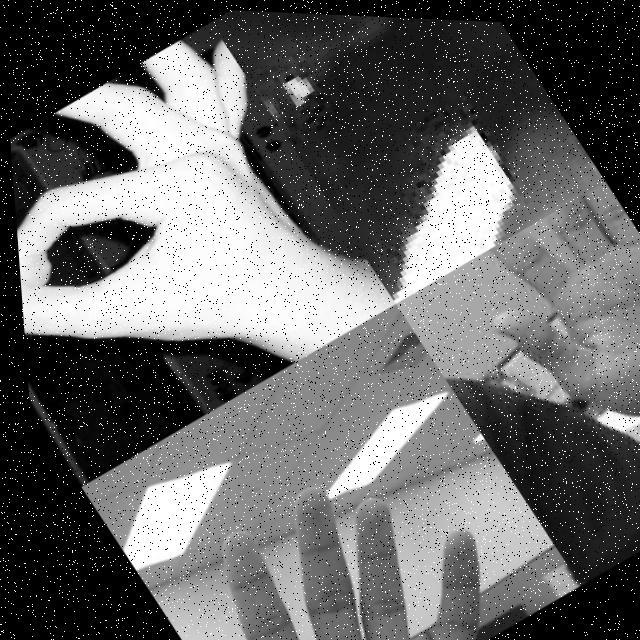no-gloves: (1, 12, 383, 461), (124, 413, 522, 640), (440, 170, 640, 473)
